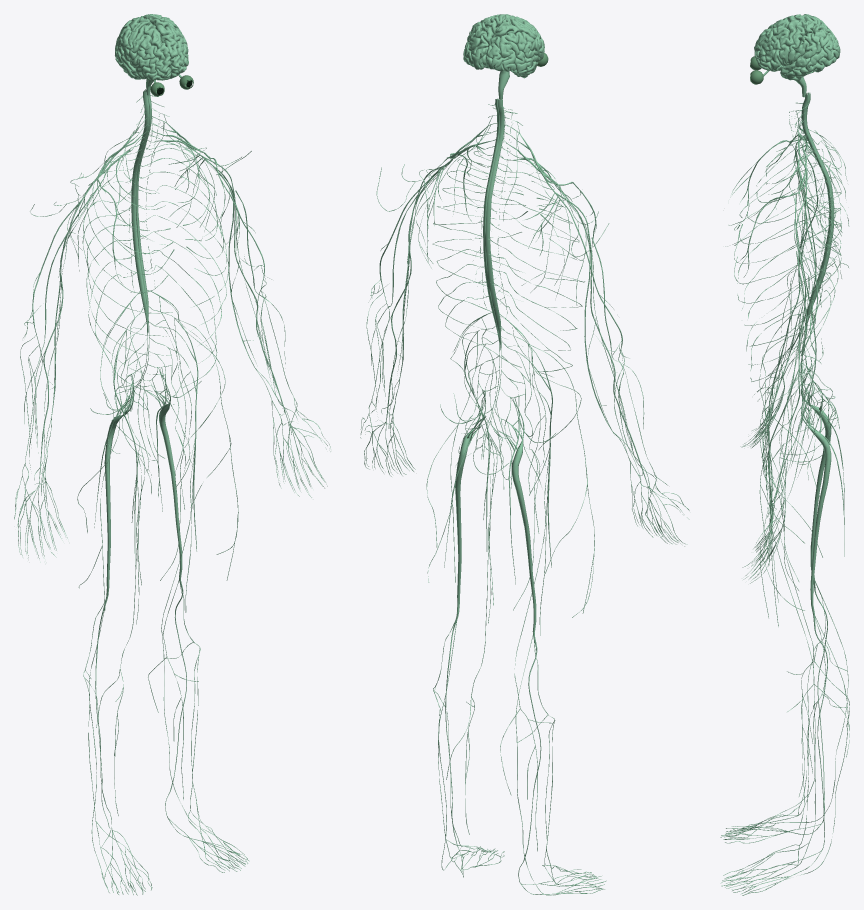
The model's file is nervous-low.glb.
The picture shows the model from 3 angles, left to right: view 1: azimuth 30°, elevation 25°; view 2: azimuth 150°, elevation 25°; view 3: azimuth 270°, elevation 25°; orthographic projection. The views are drawn at different scales.
Parts seen in each view (by area): view 1: nervous; view 2: nervous; view 3: nervous.
Boxes of the visible parts, x1,y1,x2,y2 form: nervous: (14, 14, 330, 895); nervous: (360, 14, 689, 895); nervous: (720, 14, 849, 895).
Bounding box in the file's own units: 0.7796 × 1.98 × 0.2755.
